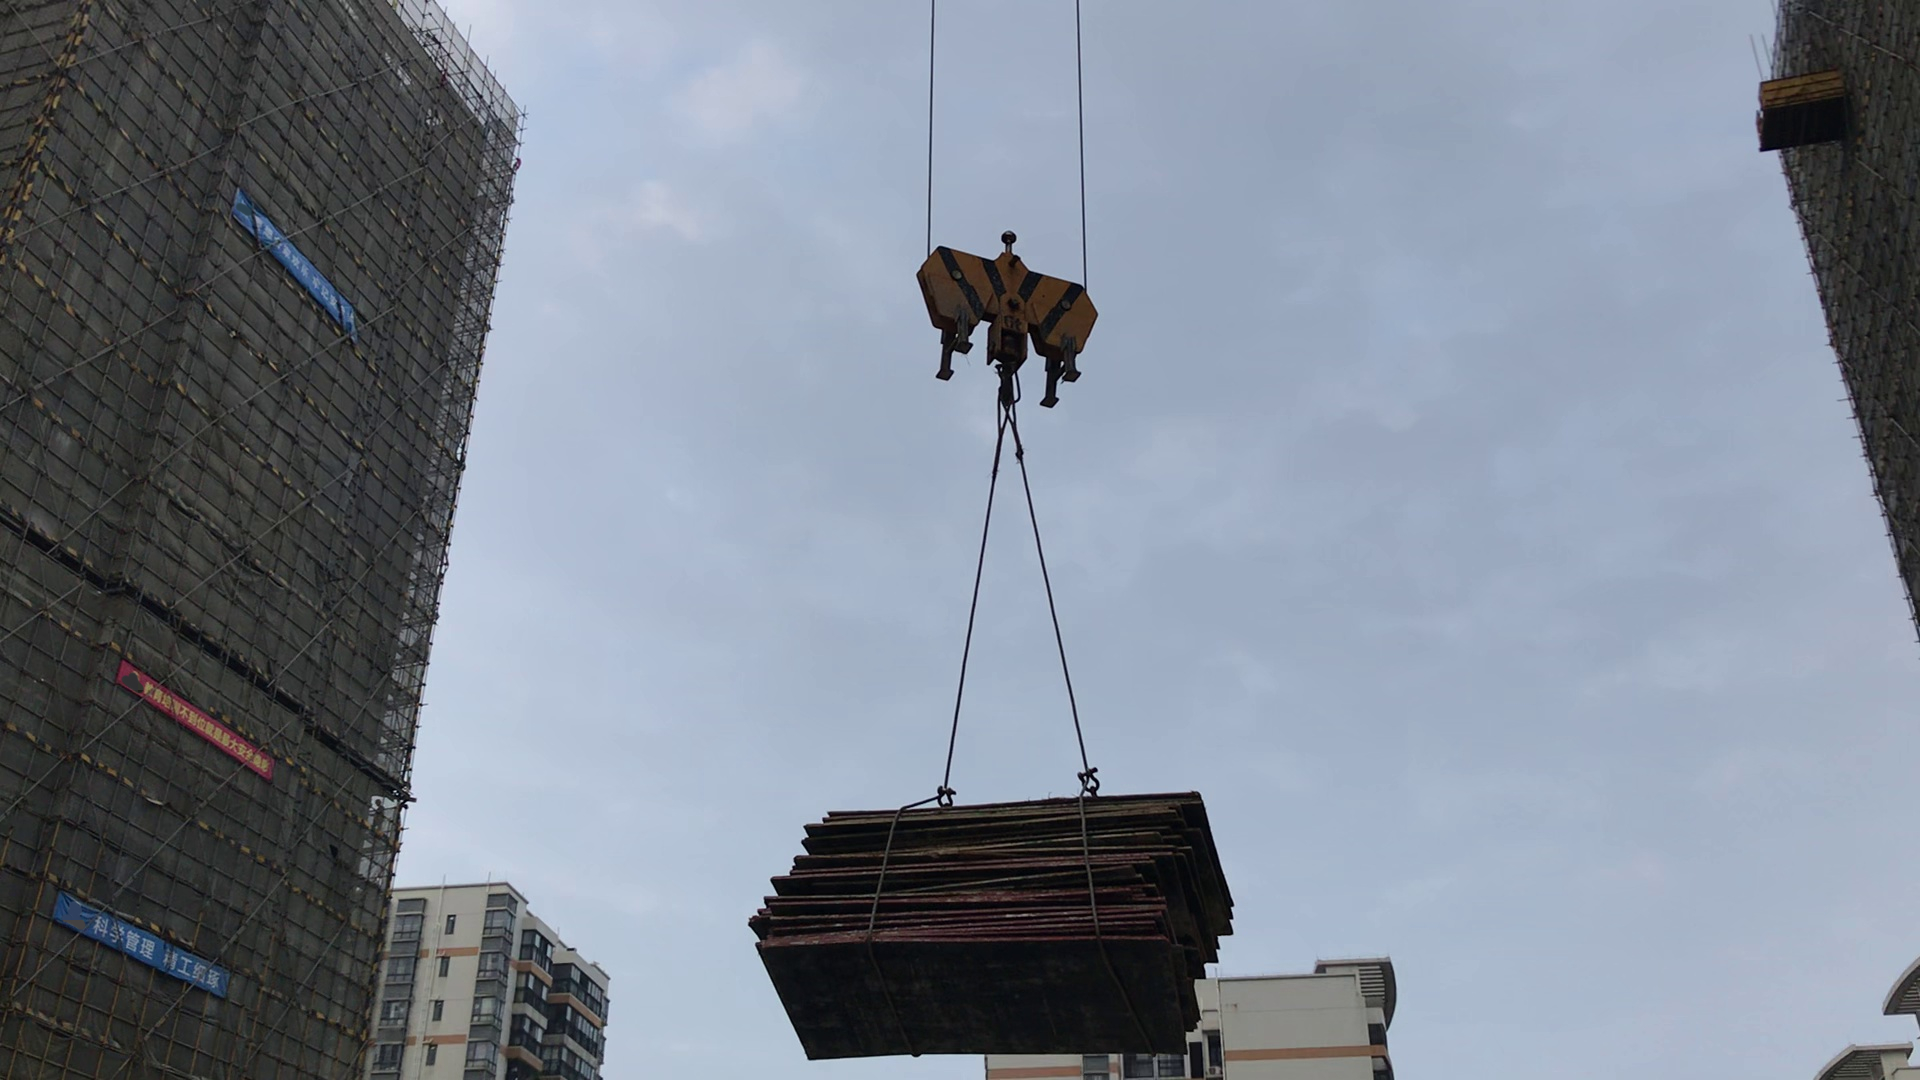board: (742, 783, 1236, 1062)
hook: (899, 239, 1106, 415)
slogan: (228, 182, 357, 336), (117, 649, 270, 777), (47, 910, 232, 988)
